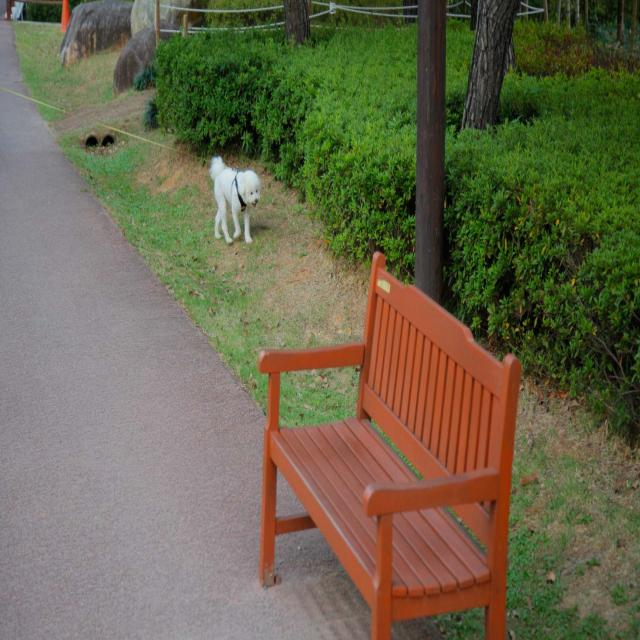Dog: (209, 155, 261, 244)
